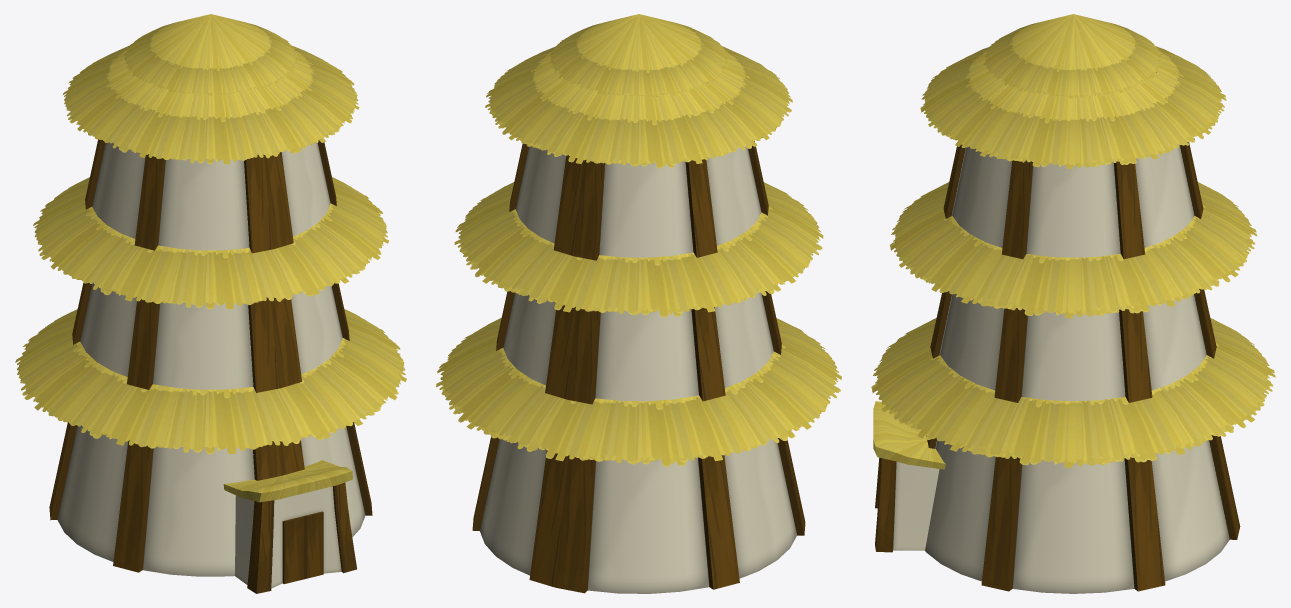
File: hut_tower.obj
3 views of the same model, side by side, from view 1: azimuth 30°, elevation 25°; view 2: azimuth 150°, elevation 25°; view 3: azimuth 270°, elevation 25° (orthographic). The views are drawn at different scales.
Parts seen in each view (by area): view 1: Cylinder.009, Cylinder.004, Cylinder.005, Cylinder.006, Cylinder.008, Cylinder.007, Cube.001, Cylinder.001; view 2: Cylinder.004, Cylinder.009, Cylinder.005, Cylinder.006, Cylinder.007, Cylinder.008, Cylinder.001; view 3: Cylinder.004, Cylinder.009, Cylinder.005, Cylinder.006, Cylinder.008, Cylinder.007, Cylinder.001, Cube.001.
Part boxes in pixels (x1,y1,x2,y2): Cylinder.009: [15, 309, 406, 454]; Cylinder.004: [49, 422, 372, 576]; Cylinder.005: [33, 169, 388, 309]; Cylinder.006: [72, 282, 349, 392]; Cylinder.008: [63, 45, 359, 164]; Cylinder.007: [85, 139, 336, 253]; Cube.001: [223, 459, 356, 593]; Cylinder.001: [124, 14, 298, 95]; Cylinder.004: [472, 437, 805, 593]; Cylinder.009: [436, 318, 841, 466]; Cylinder.005: [454, 182, 823, 317]; Cylinder.006: [496, 291, 781, 404]; Cylinder.007: [509, 141, 768, 260]; Cylinder.008: [485, 46, 792, 168]; Cylinder.001: [548, 14, 729, 98]; Cylinder.004: [925, 435, 1240, 593]; Cylinder.009: [871, 318, 1275, 467]; Cylinder.005: [890, 182, 1257, 318]; Cylinder.006: [930, 289, 1216, 402]; Cylinder.008: [920, 46, 1226, 169]; Cylinder.007: [943, 142, 1203, 259]; Cylinder.001: [983, 14, 1163, 98]; Cube.001: [873, 401, 945, 552].
Bounding box in the file's own units: 4.31 × 5.99 × 4.31.
